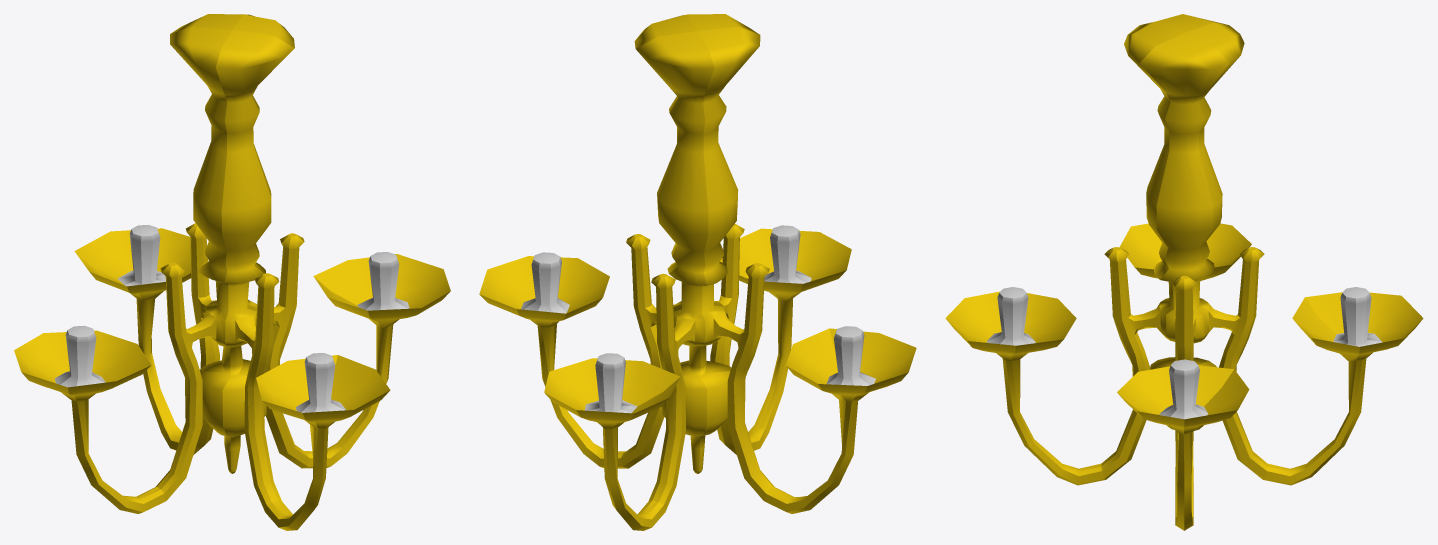
The model's file is Chandelier.fbx.
The picture shows the model from 3 angles, left to right: view 1: azimuth 30°, elevation 25°; view 2: azimuth 150°, elevation 25°; view 3: azimuth 270°, elevation 25°; orthographic projection.
Parts seen in each view (by area): view 1: pCylinder10; view 2: pCylinder10; view 3: pCylinder10.
Boxes of the visible parts, x1,y1,x2,y2 form: pCylinder10: (14,14,450,530); pCylinder10: (479,14,916,530); pCylinder10: (945,14,1423,530).
Size of the model in its own units: 155 by 162 by 155.
